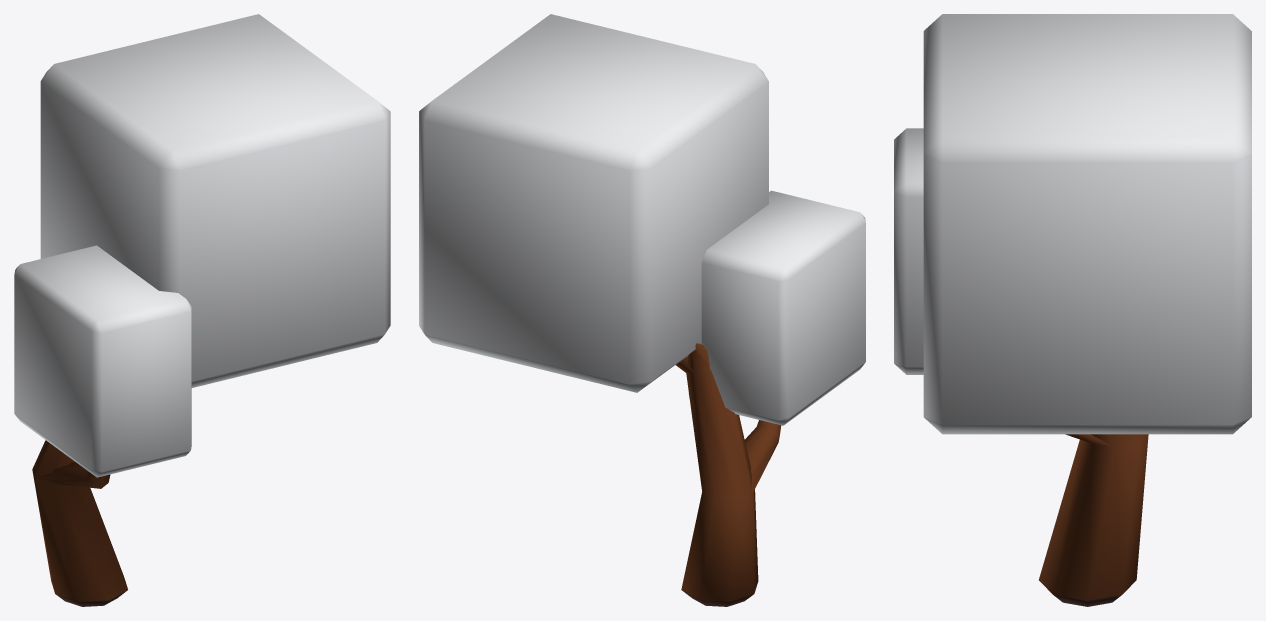
The model's file is tree-a3.glb.
The picture shows the model from 3 angles, left to right: view 1: azimuth 30°, elevation 25°; view 2: azimuth 150°, elevation 25°; view 3: azimuth 270°, elevation 25°; orthographic projection. The views are drawn at different scales.
Visible parts, largest first — view 1: tree-31.col; view 2: tree-31.col; view 3: tree-31.col.
Boxes of the visible parts, x1,y1,x2,y2 form: tree-31.col: (14, 14, 390, 606); tree-31.col: (419, 14, 865, 606); tree-31.col: (894, 14, 1251, 606).
Size of the model in its own units: 0.6686 by 0.9816 by 0.5373.
1 material, 1 textured.
